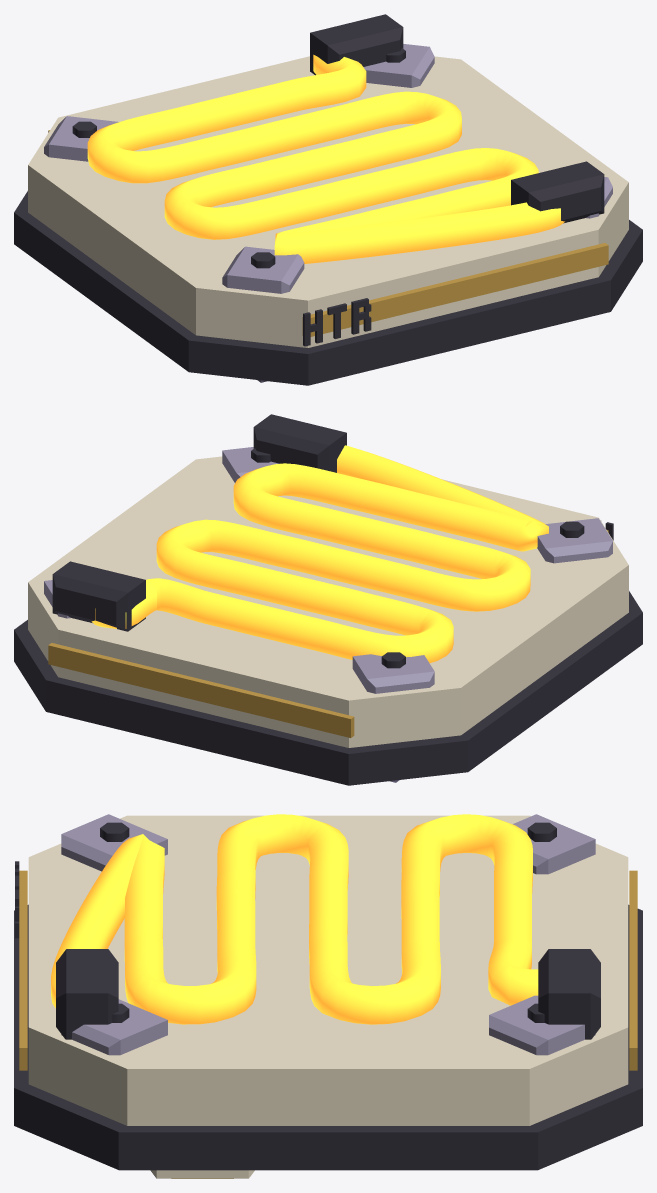
The model's file is heater.glb.
The picture shows the model from 3 angles, top to bottom: view 1: azimuth 30°, elevation 25°; view 2: azimuth 150°, elevation 25°; view 3: azimuth 270°, elevation 25°; orthographic projection. The views are drawn at different scales.
Visible parts, largest first — view 1: pad_creamHull, coil_emissive, pad_graphite, pad_purpleGreyLight, pad_gold; view 2: pad_creamHull, coil_emissive, pad_graphite, pad_gold, pad_purpleGreyLight; view 3: pad_creamHull, coil_emissive, pad_graphite, pad_purpleGreyLight, pad_gold, plate_creamHull.
Part boxes in pixels (bbox=[...]): pad_creamHull: bbox=[28, 56, 628, 347]; coil_emissive: bbox=[87, 54, 564, 263]; pad_graphite: bbox=[14, 14, 642, 385]; pad_purpleGreyLight: bbox=[44, 44, 612, 293]; pad_gold: bbox=[48, 130, 608, 336]; pad_creamHull: bbox=[28, 456, 628, 747]; coil_emissive: bbox=[91, 445, 548, 663]; pad_graphite: bbox=[14, 414, 642, 785]; pad_gold: bbox=[48, 530, 608, 737]; pad_purpleGreyLight: bbox=[44, 447, 612, 693]; pad_creamHull: bbox=[28, 815, 628, 1125]; coil_emissive: bbox=[51, 814, 538, 1024]; pad_graphite: bbox=[14, 822, 642, 1170]; pad_purpleGreyLight: bbox=[61, 814, 595, 1055]; pad_gold: bbox=[19, 870, 637, 1070]; plate_creamHull: bbox=[150, 1170, 254, 1178].
Bounding box in the file's own units: 0.3 × 0.0945 × 0.3.
